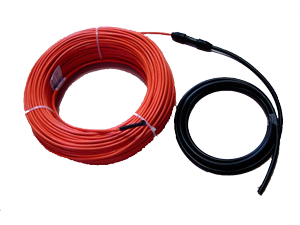Nonrec_Tangler: (10, 15, 291, 191)
